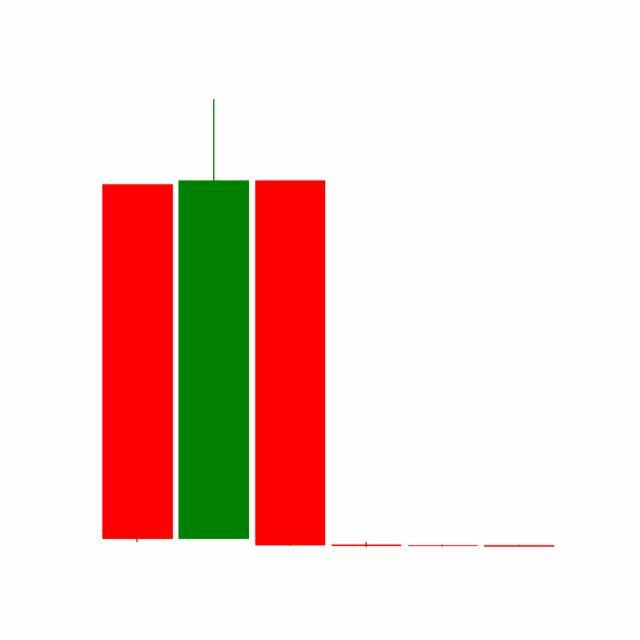Hammer: (404, 545, 482, 548)
